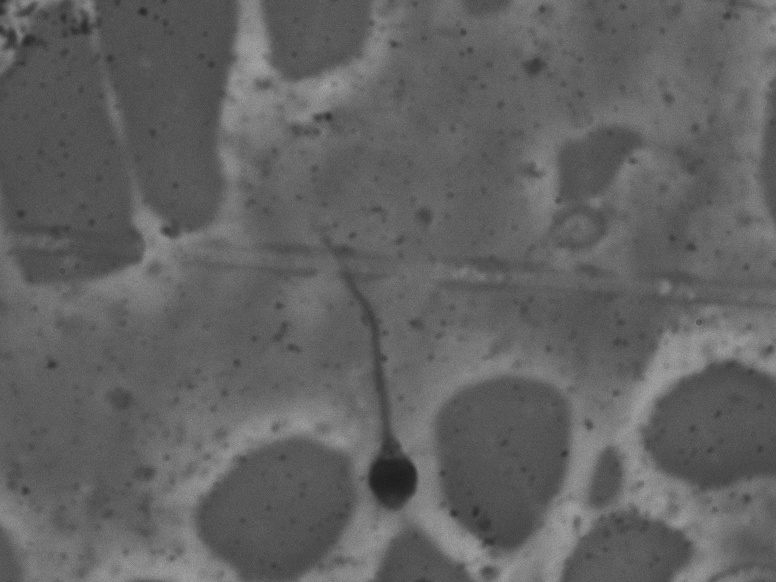Abnormal: (289, 206, 432, 524)
